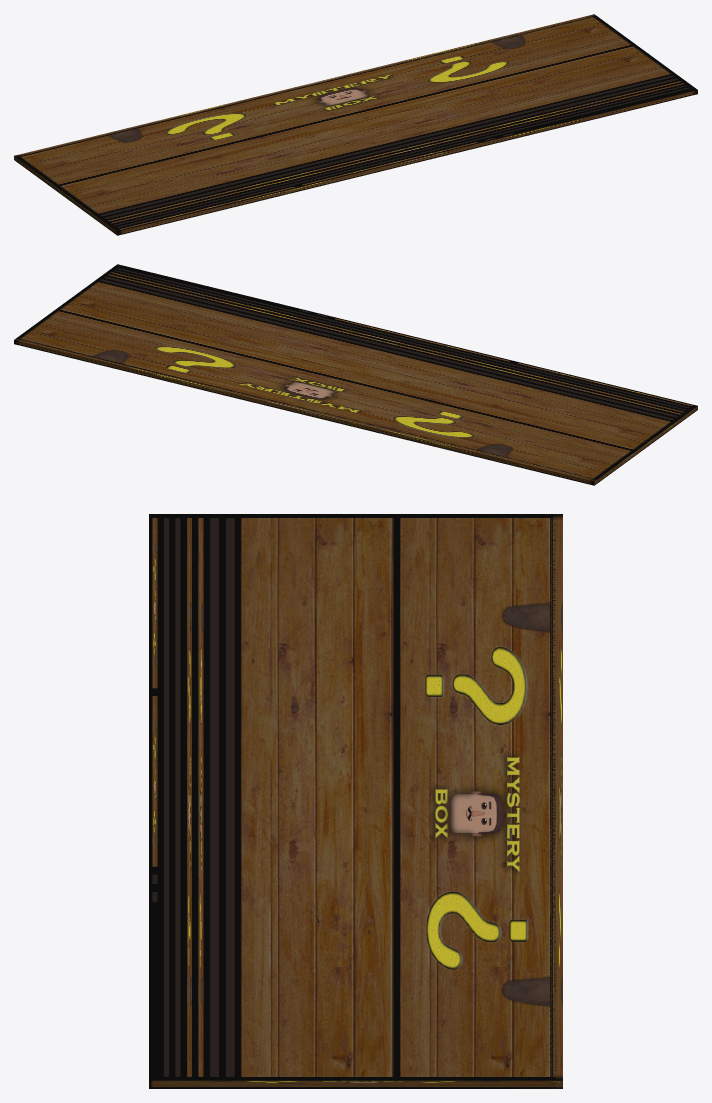
File: box-top.obj
3 renders of one model, top to bottom at view 1: azimuth 30°, elevation 25°; view 2: azimuth 150°, elevation 25°; view 3: azimuth 270°, elevation 25°, orthographic. The views are drawn at different scales.
Visible parts, largest first — view 1: box-top.obj.1; view 2: box-top.obj.1; view 3: box-top.obj.1.
Part boxes in pixels (bbox=[...]): box-top.obj.1: bbox=[14, 14, 697, 235]; box-top.obj.1: bbox=[14, 264, 697, 485]; box-top.obj.1: bbox=[149, 514, 562, 1088].
Size of the model in its own units: 659 by 4.54 by 204.
Materials: 1 (1 with a texture image).
